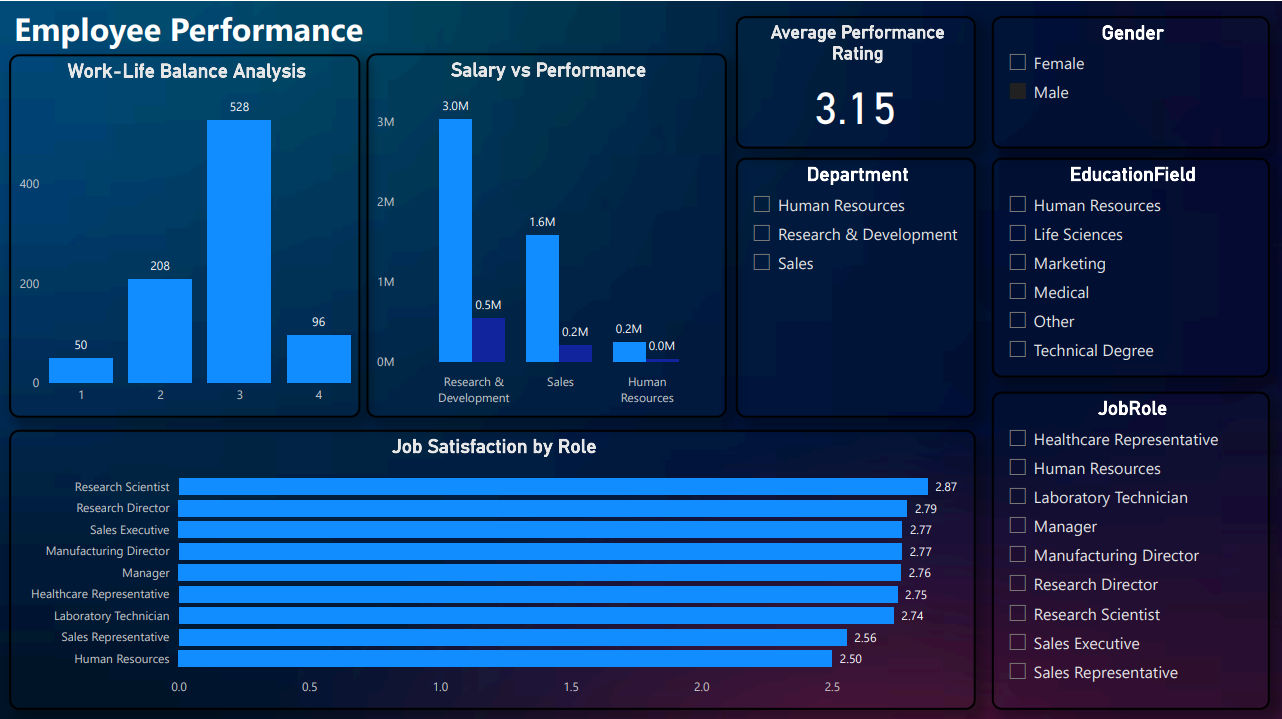

Layout of this report page (visuals, bound fields, positions):
{"tool":"powerbi","page":{"name":"Employee Performance","canvas":[1280,720],"ordinal":1},"visuals":[{"type":"card","title":"Average Performance Rating","fields":{"Values":["Avg(HR-Employee-Attrition.PerformanceRating)"]},"box":[733.7,14.7,239.3,132.5],"z":0},{"type":"clusteredColumnChart","title":"Salary vs Performance","fields":{"Y":["Sum(HR-Employee-Attrition.MonthlyIncome)"],"Category":["HR-Employee-Attrition.Department"],"Series":["HR-Employee-Attrition.PerformanceRating"]},"box":[365.6,51.5,359.5,363.2],"z":1000},{"type":"clusteredBarChart","title":"Job Satisfaction by Role","fields":{"Category":["HR-Employee-Attrition.JobRole"],"Y":["Avg(HR-Employee-Attrition.JobSatisfaction)"]},"box":[9.8,427,963.2,278.5],"z":2000},{"type":"clusteredColumnChart","title":"Work-Life Balance Analysis","fields":{"Category":["HR-Employee-Attrition.WorkLifeBalance"],"Y":["CountNonNull(HR-Employee-Attrition.EmployeeNumber)"]},"box":[9.8,52.8,349.7,362],"z":3000},{"type":"slicer","title":"Department","fields":{"Values":["HR-Employee-Attrition.Department"]},"box":[733.7,155.8,239.3,258.9],"z":4000},{"type":"slicer","title":"Gender","fields":{"Values":["HR-Employee-Attrition.Gender"]},"box":[989,14.7,277.3,132.5],"z":5000},{"type":"slicer","title":"JobRole","fields":{"Values":["HR-Employee-Attrition.JobRole"]},"box":[989,389,277.3,316.6],"z":6000},{"type":"slicer","title":"EducationField","fields":{"Values":["HR-Employee-Attrition.EducationField"]},"box":[989,155.8,277.3,219.6],"z":7000},{"type":"textbox","box":[9.8,0,501.8,67.5],"z":8000}]}

Visuals, with their boxes in screenshot pixels (x1, y1, x2, y2), scaled from the page's 1280x720 canvas onto the 1282x719 screenshot:
"Average Performance Rating" card: l=735, t=15, r=975, b=147
"Salary vs Performance" clusteredColumnChart: l=366, t=51, r=726, b=414
"Job Satisfaction by Role" clusteredBarChart: l=10, t=426, r=975, b=705
"Work-Life Balance Analysis" clusteredColumnChart: l=10, t=53, r=360, b=414
"Department" slicer: l=735, t=156, r=975, b=414
"Gender" slicer: l=991, t=15, r=1268, b=147
"JobRole" slicer: l=991, t=388, r=1268, b=705
"EducationField" slicer: l=991, t=156, r=1268, b=375
textbox: l=10, t=0, r=512, b=67
